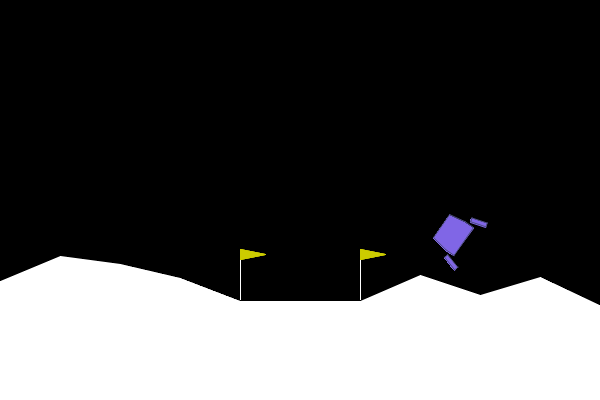lander: (422, 201, 489, 273)
